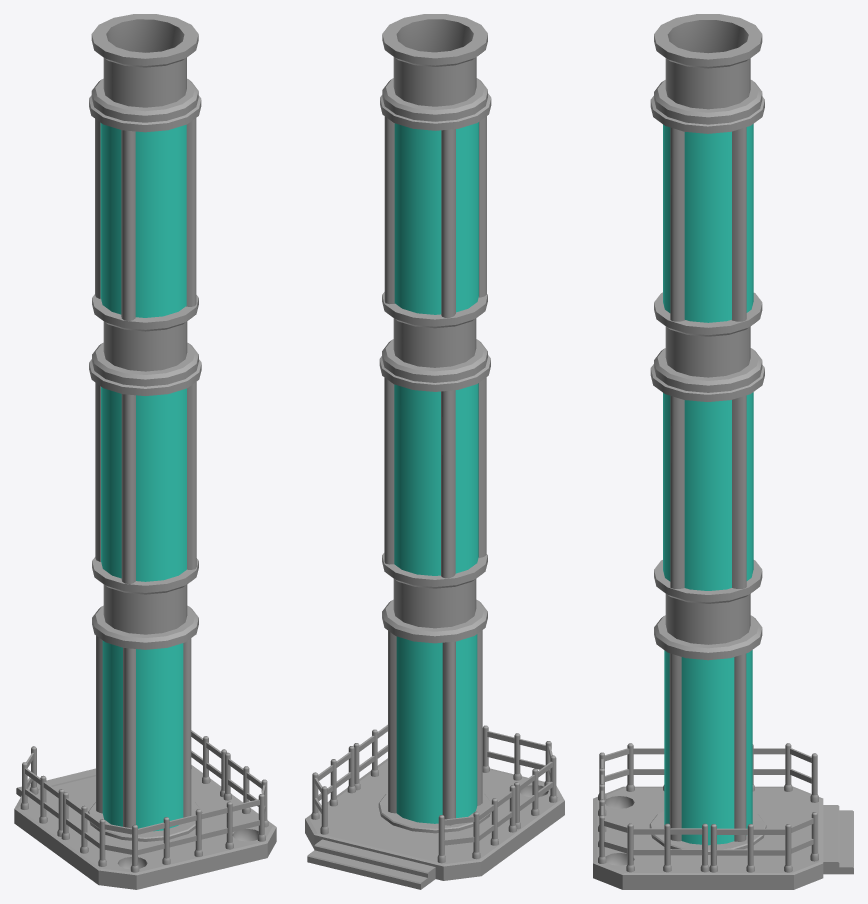
Rendered from Elevator 1.fbx.
3 views of the same model, side by side, from view 1: azimuth 30°, elevation 25°; view 2: azimuth 150°, elevation 25°; view 3: azimuth 270°, elevation 25° (orthographic). The views are drawn at different scales.
Visible parts, largest first — view 1: Elevator_Base, Elevator_Extension; view 2: Elevator_Base, Elevator_Extension, GlassDoor2; view 3: Elevator_Base, Elevator_Extension, GlassDoor2.
Part boxes in pixels (x1,y1,x2,y2): Elevator_Base: [14, 294, 276, 889]; Elevator_Extension: [89, 14, 201, 321]; Elevator_Base: [305, 292, 564, 889]; Elevator_Extension: [380, 14, 491, 317]; GlassDoor2: [396, 636, 442, 823]; Elevator_Base: [593, 292, 853, 889]; Elevator_Extension: [650, 14, 764, 322]; GlassDoor2: [746, 650, 752, 835].
Bounding box in the file's own units: 2.71 × 11.58 × 3.38.
